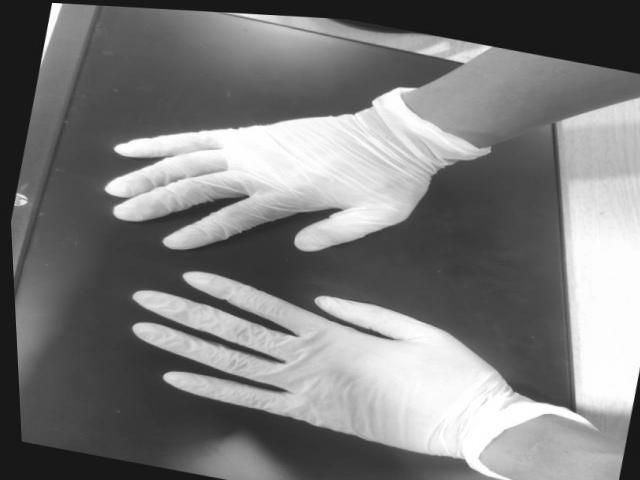gloved: (132, 268, 474, 444), (100, 111, 417, 253)
